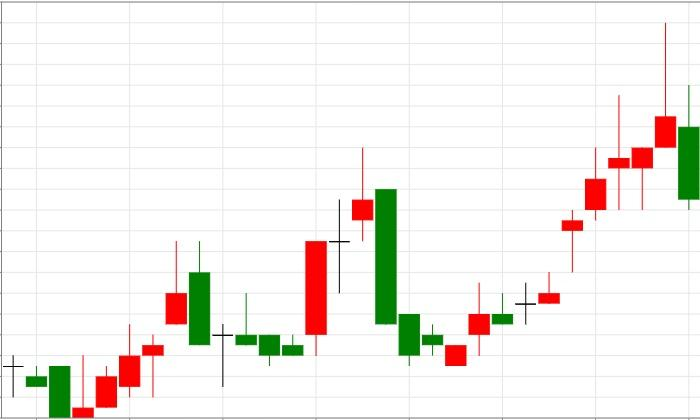bearish_engulfing_fall: (72, 240, 211, 418)
shooting_star_fall: (444, 22, 676, 366)
